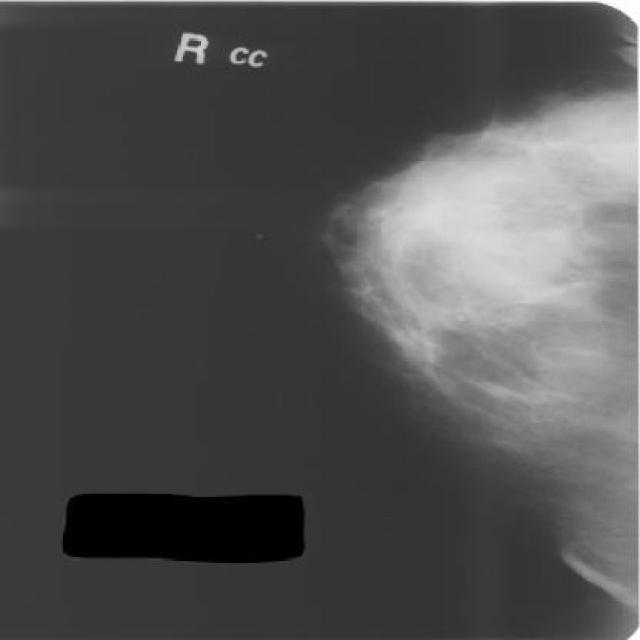tumor: (360, 149, 622, 330)
